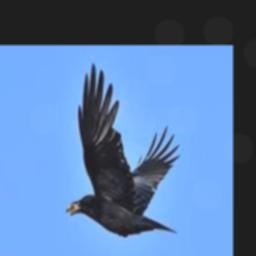Crow: (67, 63, 178, 236)
